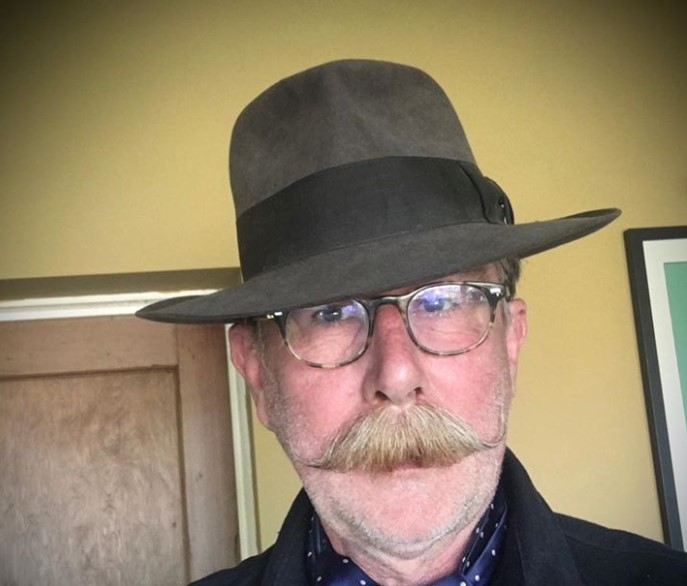face_no_mask: (239, 205, 527, 546)
